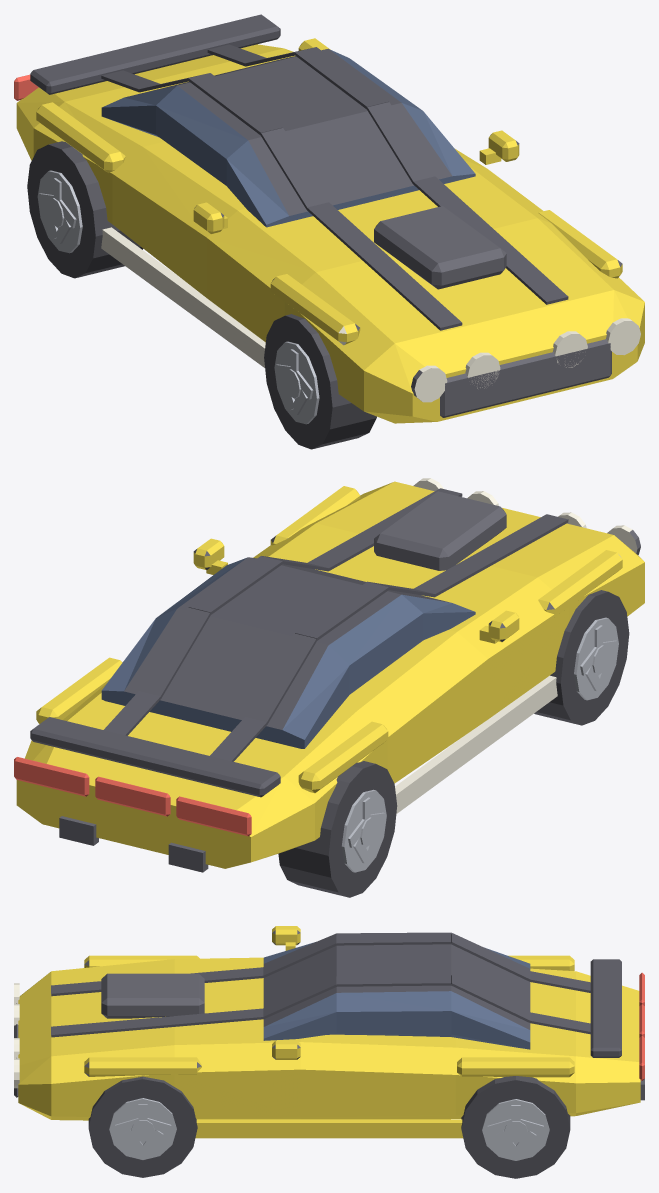
The model's file is Car_sunny.fbx.
3 renders of one model, top to bottom at view 1: azimuth 30°, elevation 25°; view 2: azimuth 150°, elevation 25°; view 3: azimuth 270°, elevation 25°, orthographic. The views are drawn at different scales.
Visible parts, largest first — view 1: Body, Wheel_FL, Wheel_RL; view 2: Body, Wheel_RL, Wheel_FL; view 3: Body, Wheel_RR, Wheel_FR.
Part boxes in pixels (box(x1,y1,x2,y2)): Body: box(14, 14, 644, 423); Wheel_FL: box(264, 314, 376, 449); Wheel_RL: box(27, 141, 143, 278); Body: box(14, 478, 644, 872); Wheel_RL: box(278, 761, 397, 897); Wheel_FL: box(534, 590, 629, 725); Body: box(14, 926, 644, 1138); Wheel_RR: box(461, 1076, 570, 1178); Wheel_FR: box(88, 1076, 197, 1177).
Size of what is drawn, in the model's own units: 2.01 by 1.25 by 4.4.
